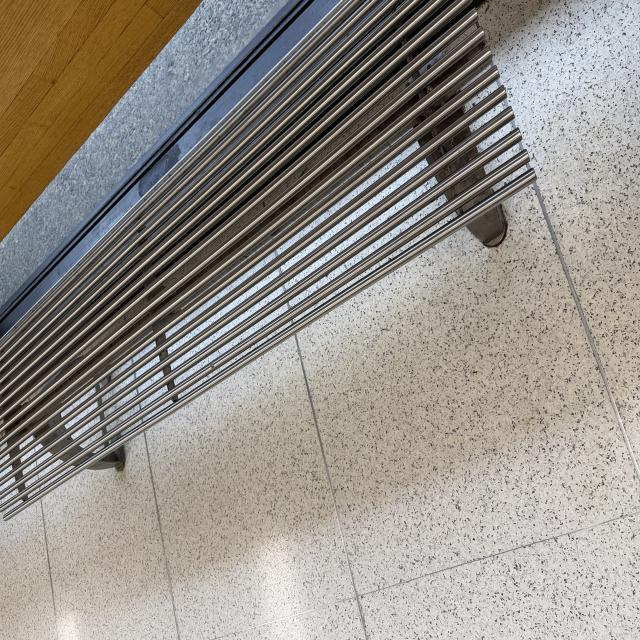Bench: (99, 3, 480, 640)
